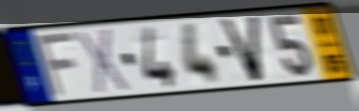4: (181, 21, 223, 87), (141, 24, 177, 91)
5: (265, 13, 315, 80)
F: (35, 29, 79, 101)
V: (216, 14, 264, 85)
X: (74, 26, 132, 96)
